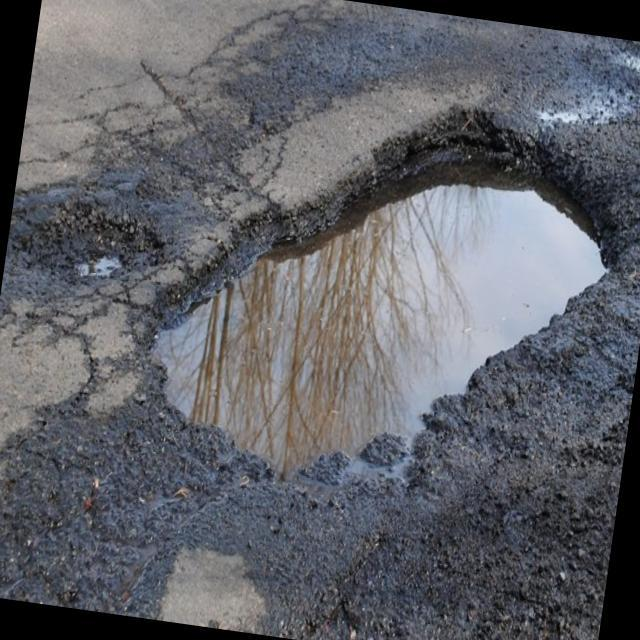Pothole: (223, 112, 592, 525), (21, 185, 170, 309)
